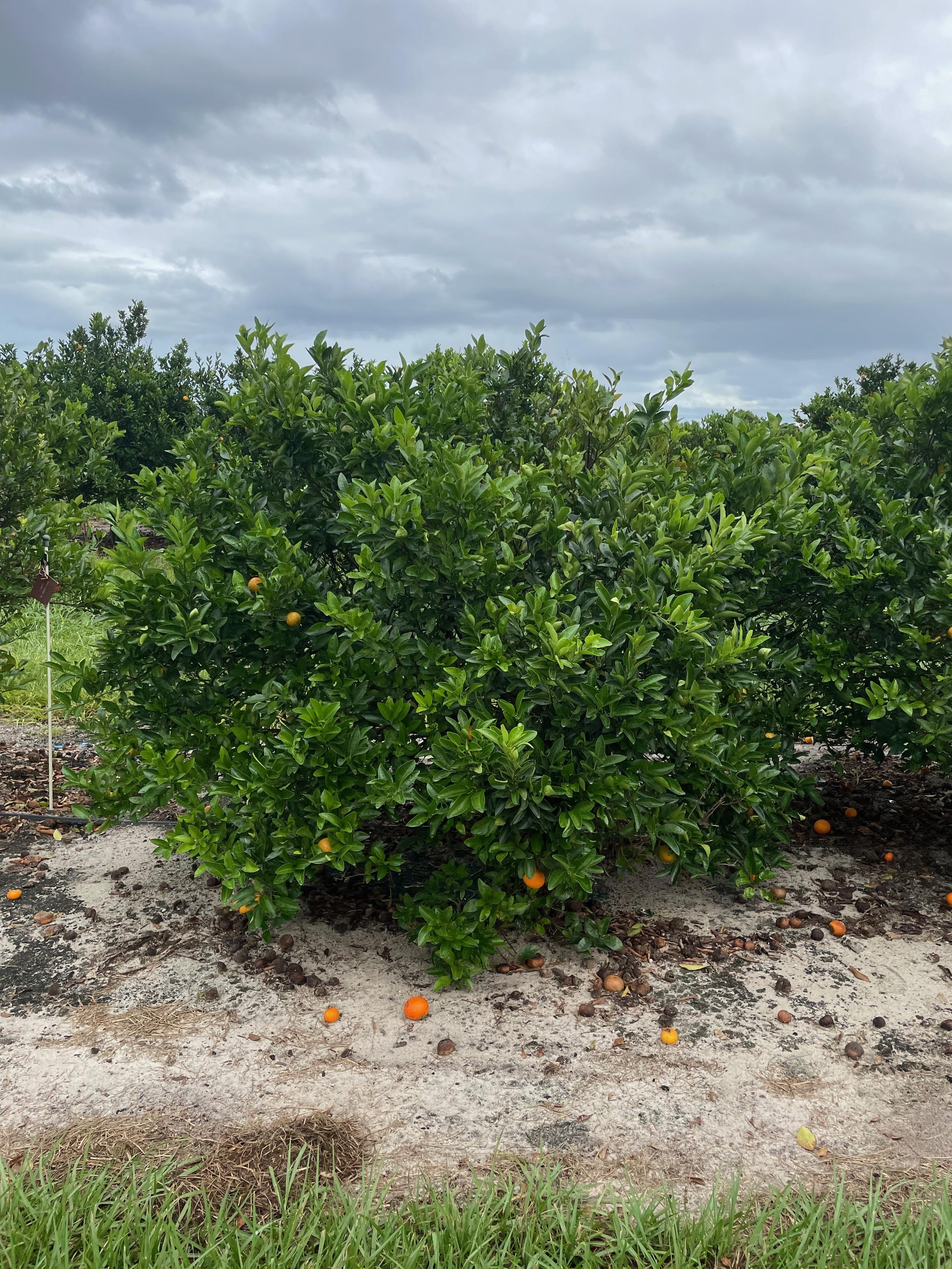fruit_on_ground: (520, 865, 548, 890), (654, 839, 679, 865), (316, 835, 340, 858), (668, 687, 691, 710), (245, 574, 268, 596), (247, 888, 268, 909), (236, 900, 258, 918), (284, 610, 303, 629), (731, 684, 749, 702), (73, 341, 86, 351), (181, 393, 190, 402)
fruit_on_tree: (403, 994, 429, 1020), (602, 972, 626, 992), (434, 1037, 456, 1058), (659, 1024, 680, 1046), (286, 961, 306, 981), (843, 1040, 864, 1059), (630, 977, 651, 996), (289, 970, 310, 988), (322, 1005, 341, 1024), (812, 816, 831, 835), (277, 933, 296, 951), (828, 918, 847, 936), (576, 1001, 595, 1018), (776, 1007, 793, 1024), (33, 910, 53, 924), (527, 953, 545, 968), (771, 885, 788, 899), (5, 886, 22, 900), (650, 935, 665, 949), (776, 916, 791, 929), (843, 805, 858, 818), (788, 916, 804, 928), (942, 890, 952, 909), (496, 962, 511, 974), (883, 849, 896, 862), (744, 939, 757, 951), (919, 763, 932, 775), (881, 777, 894, 788), (732, 936, 744, 947), (803, 734, 816, 744), (842, 780, 854, 790)
